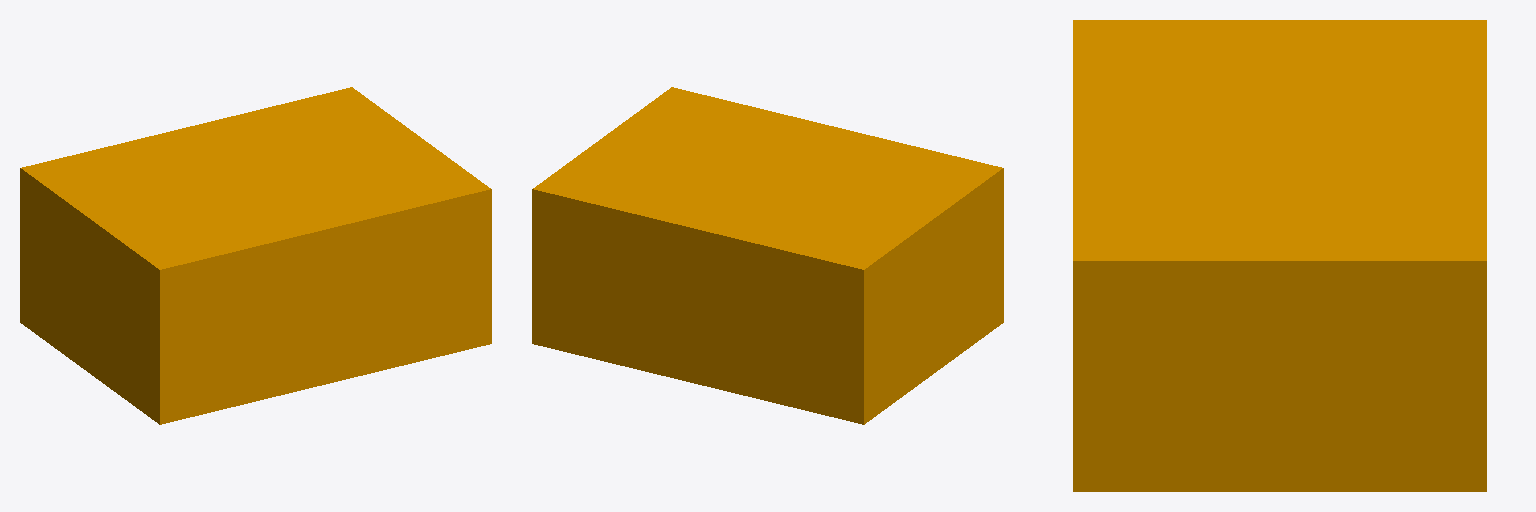
The robot description file, URDF, robot "object":
<?xml version="1.0"?>
<!-- Auto-generated by tools/gen_primitive_objects.py. kind=box dims=(0.099476, 0.072438, 0.044408) -->
<robot name="object">
  <link name="object">
    <visual>
      <origin xyz="0 0 0"/>
      <geometry>
        <box size="0.099476 0.072438 0.044408"/>
      </geometry>
    </visual>
    <collision>
      <origin xyz="0 0 0"/>
      <geometry>
        <box size="0.099476 0.072438 0.044408"/>
      </geometry>
    </collision>
    <inertial>
      <mass value="0.063999"/>
      <inertia ixx="0.00003850" ixy="0.0" ixz="0.0" iyy="0.00006329" iyz="0.0" izz="0.00008076"/>
    </inertial>
  </link>
</robot>

--- Facts derived from the render (not from the file) ---
3 views of the same robot in one strip: view 1: azimuth 30°, elevation 25°; view 2: azimuth 150°, elevation 25°; view 3: azimuth 270°, elevation 25° (orthographic).
Model object with 1 links and 0 joints (none), rooted at object, posed all joints at 0.
Links seen in each view (by area): view 1: object; view 2: object; view 3: object.
Boxes of the visible links, x1,y1,x2,y2 form: object: (20,87,491,424); object: (532,87,1003,424); object: (1073,20,1486,491).
Bounding box of the posed robot: 0.0995 × 0.0724 × 0.0444 m (x, y, z).
Geometry: primitives only (box / cylinder / sphere), no mesh files.
